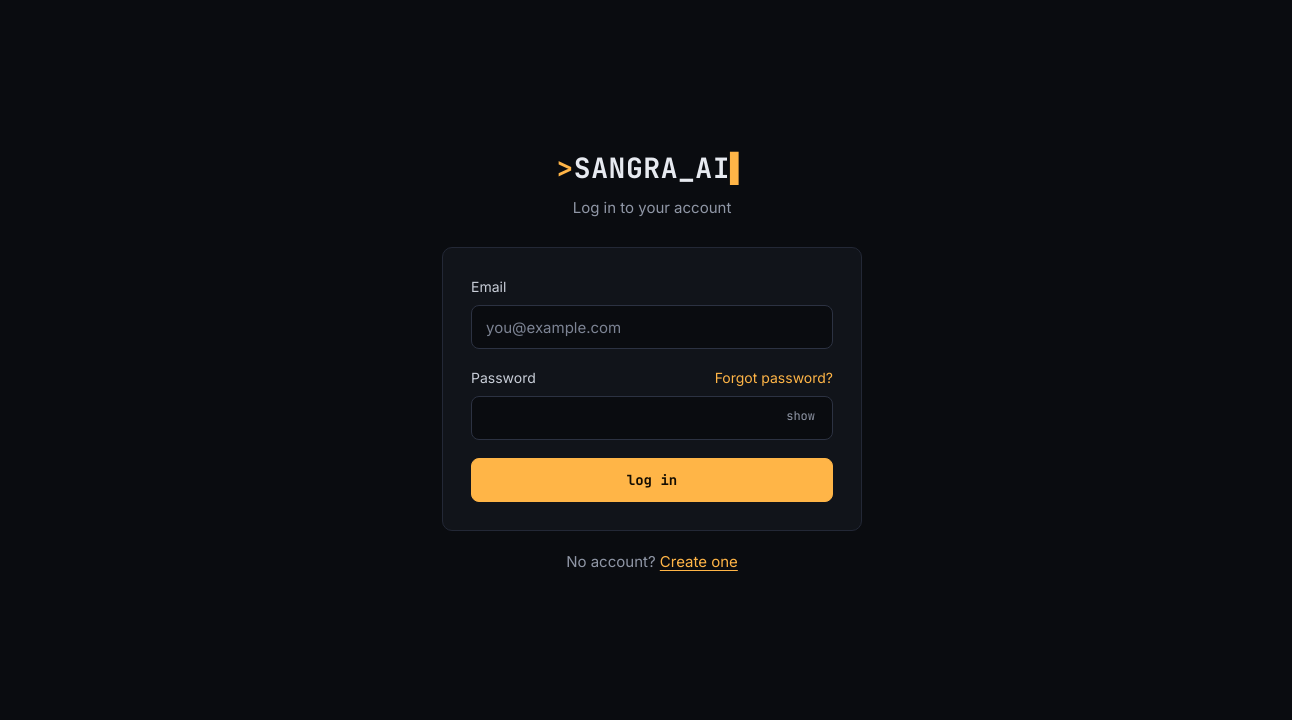
it: login, register, logout › FE2-F06: a logged-out user opens a deep link, logs in, and returns there
Check: the button "log in" is shown, box [471,458,833,502]
Type "sangram@example.com" into the field labelled "Email" at (652, 327), box [471,305,833,349]
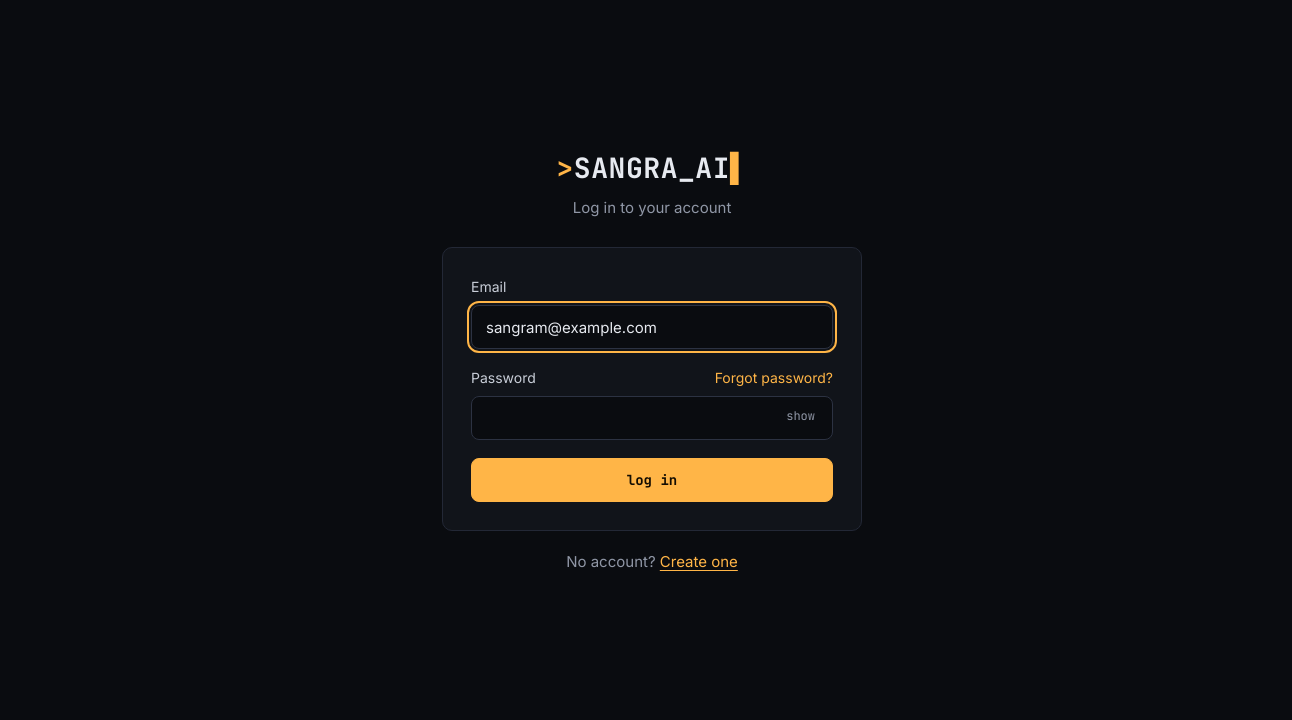
Type "Str0ng-pass" into the password field labelled "Password" at (652, 418), box [471,396,833,440]
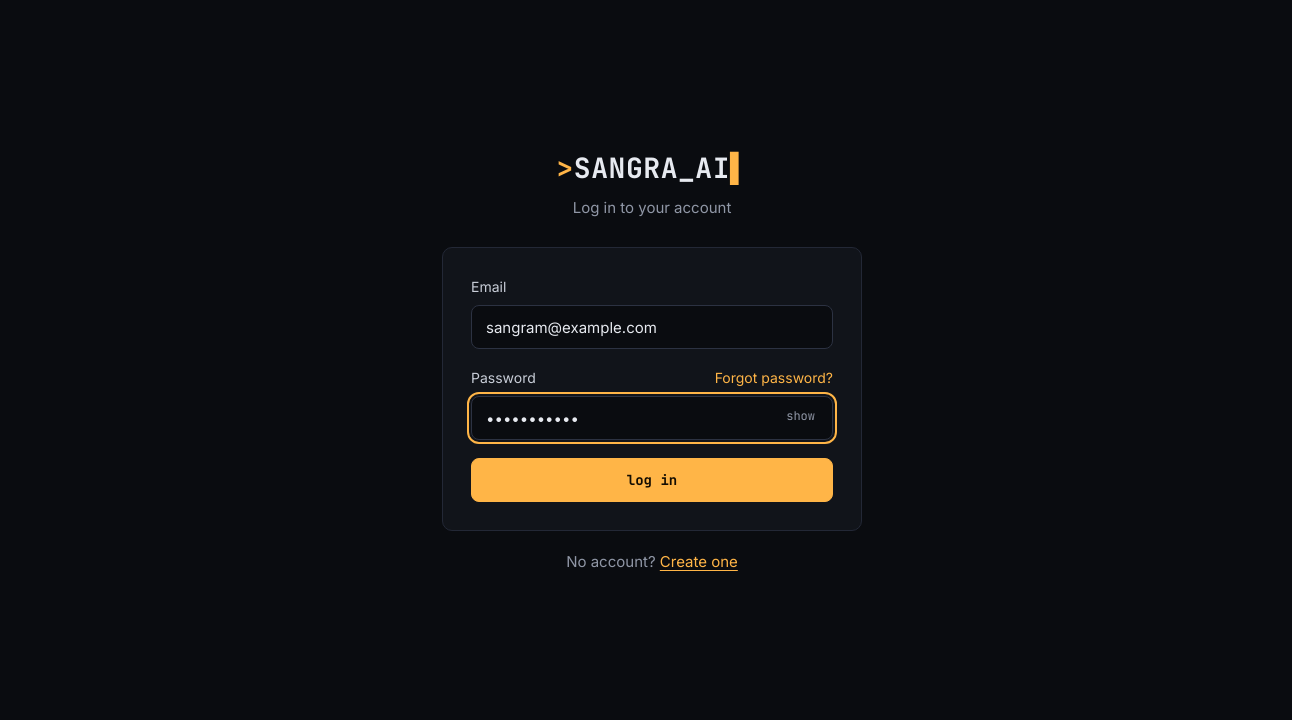
Click the button "log in" at (652, 480), box [471,458,833,502]
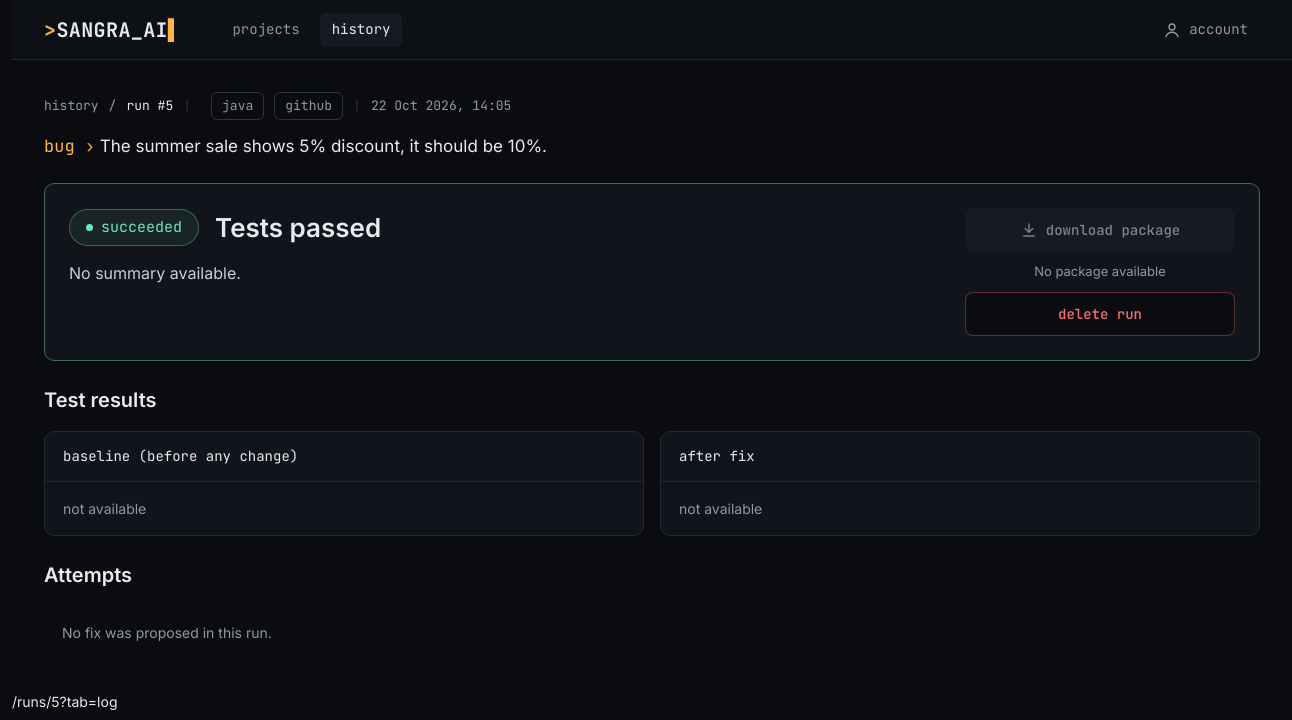
Check: the heading "Tests passed" is shown, box [215,208,381,247]
Check: the text with test id "location" reads "/runs/5?tab=log", box [12,692,118,710]
